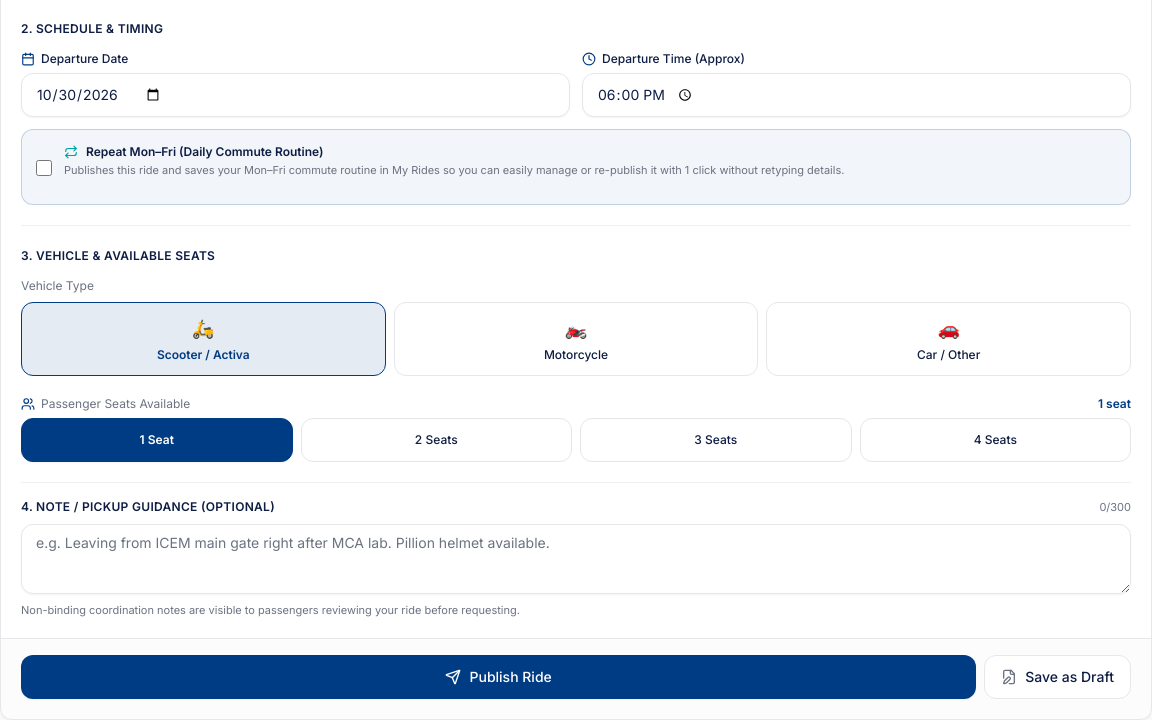
Test: OfferRideForm Component (Phase 3) › saves a ride as draft when Save as Draft is clicked
The image size is (1152, 720).
(page scrolled)
Click the button "Save as Draft".
click(1058, 677)  # box [984,655,1131,699]
(page scrolled)
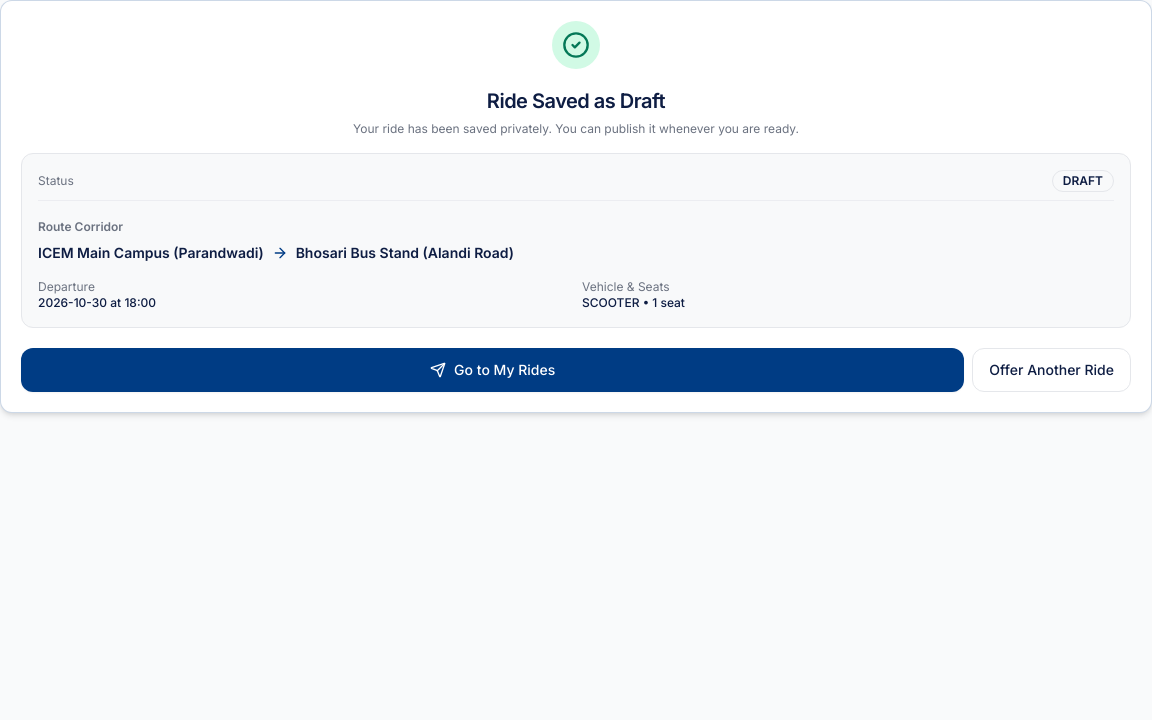
Expected: the heading "Ride Saved as Draft" is shown, [487,89,665,113]
Expected: the text "DRAFT" is shown, [1052,170,1114,192]
